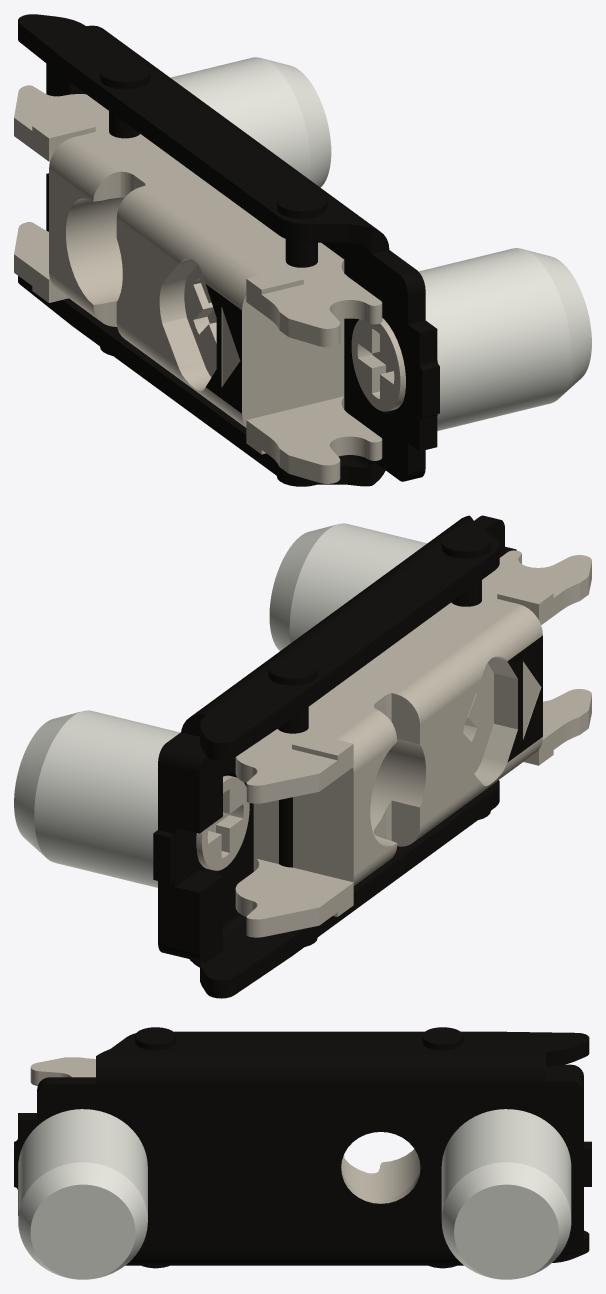
The picture shows the model from 3 angles, top to bottom: view 1: azimuth 30°, elevation 25°; view 2: azimuth 150°, elevation 25°; view 3: azimuth 270°, elevation 25°; orthographic projection. The views are drawn at different scales.
Visible parts, largest first — view 1: bau0027287819; view 2: bau0027287819; view 3: bau0027287819.
Boxes of the visible parts, x1,y1,x2,y2 form: bau0027287819: (14, 14, 591, 486); bau0027287819: (14, 515, 591, 998); bau0027287819: (14, 1027, 591, 1279).
Bounding box in the file's own units: 20 × 18.65 × 43.67.
